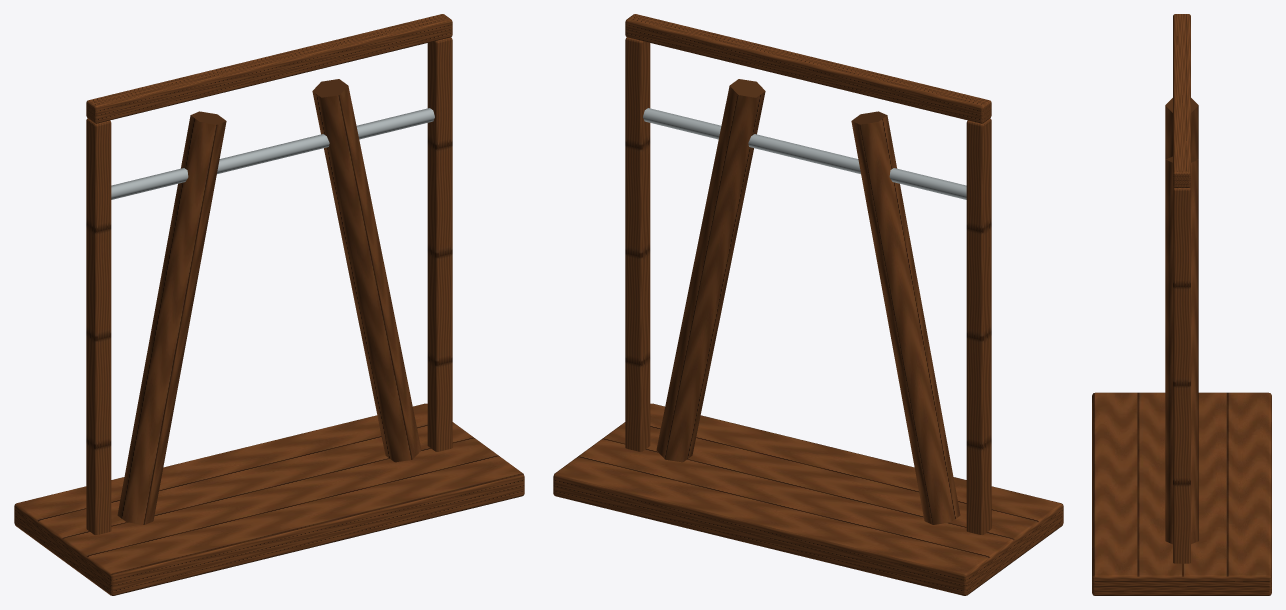
File: creature-husbandry-and-transport-restraint-stanchion-8ccf99d3__24029.glb
3 views of the same model, side by side, from view 1: azimuth 30°, elevation 25°; view 2: azimuth 150°, elevation 25°; view 3: azimuth 270°, elevation 25° (orthographic). The views are drawn at different scales.
Parts seen in each view (by area): view 1: restraint-stanchion; view 2: restraint-stanchion; view 3: restraint-stanchion.
Part boxes in pixels (x1,y1,x2,y2): restraint-stanchion: (14, 14, 524, 595); restraint-stanchion: (553, 14, 1063, 595); restraint-stanchion: (1092, 14, 1271, 595).
Size of the model in its own units: 1.7 by 1.77 by 0.6999.
Materials: 2 (1 with a texture image).
